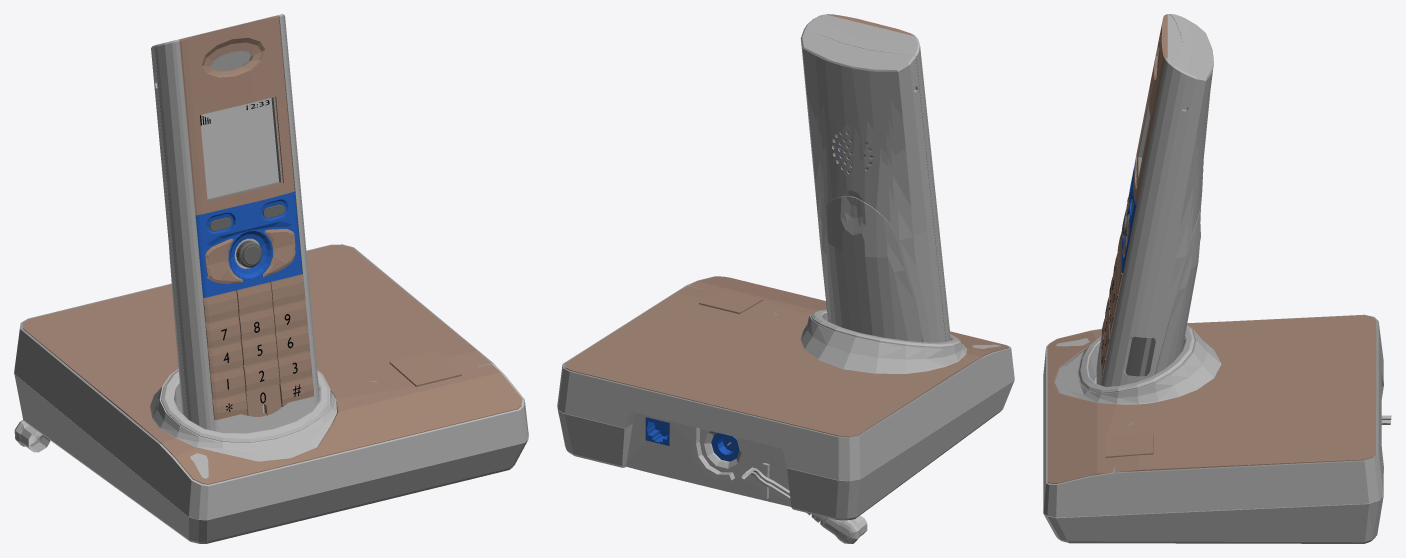
Rendered from Phone.fbx.
3 renders of one model, left to right at view 1: azimuth 30°, elevation 25°; view 2: azimuth 150°, elevation 25°; view 3: azimuth 270°, elevation 25°, orthographic. The views are drawn at different scales.
Visible parts, largest first — view 1: Object021, Object023, Plane024.Plane025; view 2: Object021, Object023, Plane024.Plane025; view 3: Object021, Object023.
Part boxes in pixels (x1,y1,x2,y2): Object021: (14, 244, 528, 543); Object023: (151, 14, 319, 432); Plane024.Plane025: (14, 420, 50, 452); Object021: (557, 276, 1014, 520); Object023: (800, 14, 950, 342); Plane024.Plane025: (741, 467, 867, 543); Object021: (1043, 314, 1383, 543); Object023: (1096, 14, 1213, 386).
Size of the model in its own units: 126 by 170 by 124.
